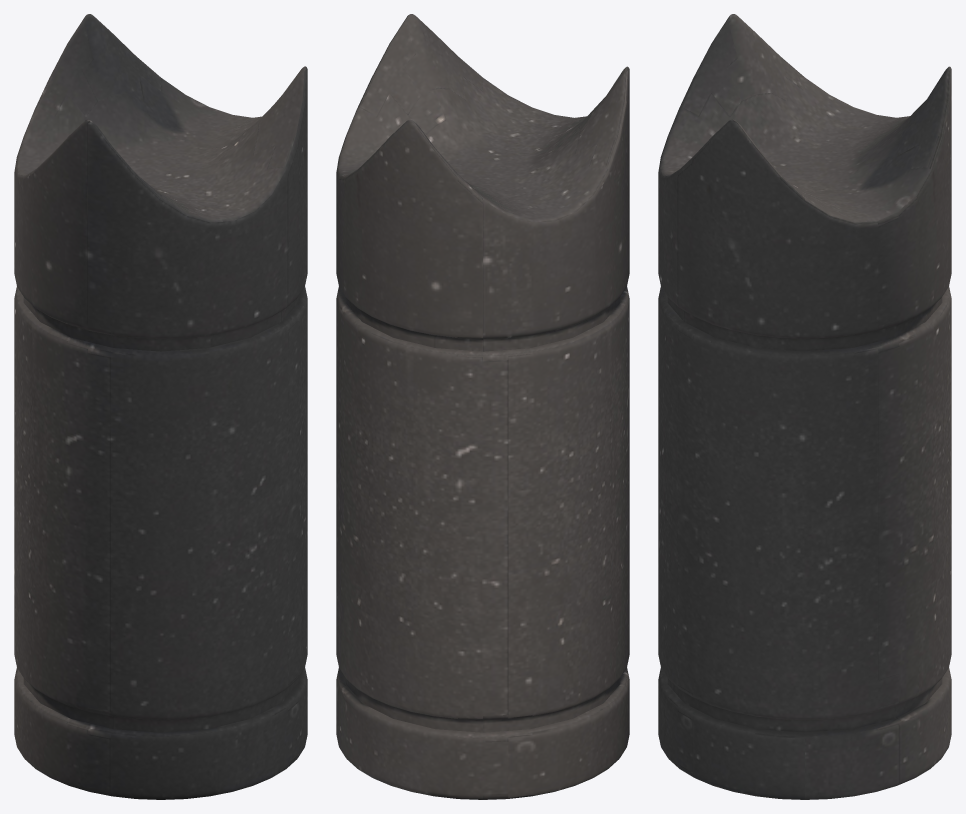
The model's file is b-queen.glb.
3 renders of one model, left to right at view 1: azimuth 30°, elevation 25°; view 2: azimuth 150°, elevation 25°; view 3: azimuth 270°, elevation 25°, orthographic.
Visible parts, largest first — view 1: b-queen; view 2: b-queen; view 3: b-queen.
Boxes of the visible parts, x1=… form: b-queen: x1=14, y1=14, x2=307, y2=799; b-queen: x1=336, y1=14, x2=629, y2=799; b-queen: x1=658, y1=14, x2=951, y2=799.
Size of the model in its own units: 0.508 by 1.29 by 0.508.
Materials: 1 (1 with a texture image).
